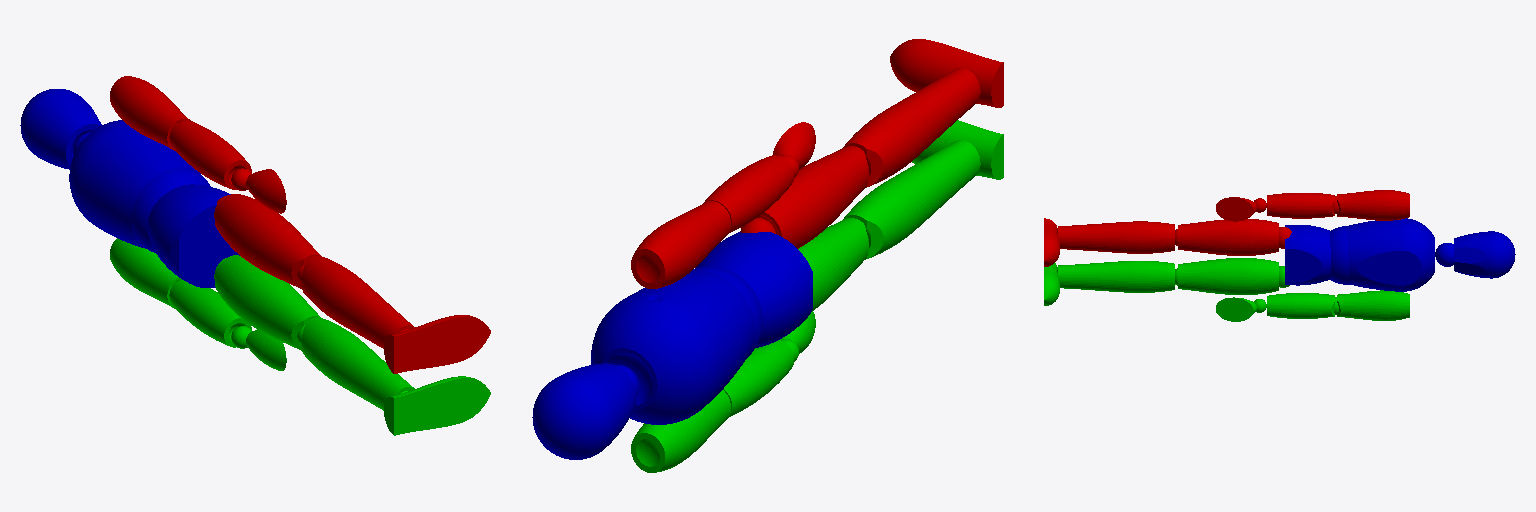
--- Render facts (derived) ---
3 views of the same robot in one strip: view 1: azimuth 30°, elevation 25°; view 2: azimuth 150°, elevation 25°; view 3: azimuth 270°, elevation 25° (orthographic).
Robot: human_36dof_ISB_model — 37 links, 36 joints (36 revolute); root link middle_pelvis; default pose: all joints at 0.
Visible links, largest first — view 1: middle_abdomen, middle_pelvis, right_upperleg, left_upperleg, right_lowerleg, left_lowerleg, middle_head, right_foot, left_foot, right_upperarm, right_lowerarm, left_lowerarm (+3 smaller); view 2: middle_abdomen, middle_head, left_lowerleg, right_lowerleg, middle_pelvis, right_upperleg, right_upperarm, right_foot, left_upperarm, left_upperleg, right_lowerarm, left_lowerarm (+3 smaller); view 3: middle_abdomen, right_upperleg, left_upperleg, right_lowerleg, left_lowerleg, middle_head, middle_pelvis, right_upperarm, left_upperarm, left_lowerarm, right_lowerarm, right_hand (+3 smaller).
Boxes of the visible links, x1=… form: middle_abdomen: x1=69, y1=120, x2=210, y2=252; middle_pelvis: x1=147, y1=184, x2=239, y2=287; right_upperleg: x1=214, y1=194, x2=320, y2=288; left_upperleg: x1=214, y1=255, x2=320, y2=350; right_lowerleg: x1=297, y1=256, x2=414, y2=348; left_lowerleg: x1=297, y1=317, x2=414, y2=410; middle_head: x1=20, y1=89, x2=101, y2=169; right_foot: x1=384, y1=315, x2=490, y2=373; left_foot: x1=384, y1=376, x2=490, y2=435; right_upperarm: x1=110, y1=76, x2=190, y2=150; right_lowerarm: x1=169, y1=120, x2=251, y2=189; left_lowerarm: x1=169, y1=279, x2=251, y2=347; middle_abdomen: x1=591, y1=267, x2=762, y2=424; middle_head: x1=532, y1=363, x2=638, y2=459; left_lowerleg: x1=843, y1=140, x2=980, y2=259; right_lowerleg: x1=843, y1=68, x2=980, y2=187; middle_pelvis: x1=695, y1=232, x2=812, y2=347; right_upperleg: x1=740, y1=146, x2=868, y2=248; right_upperarm: x1=631, y1=201, x2=730, y2=288; right_foot: x1=890, y1=39, x2=1003, y2=107; left_upperarm: x1=631, y1=390, x2=730, y2=472; left_upperleg: x1=798, y1=218, x2=868, y2=310; right_lowerarm: x1=703, y1=155, x2=793, y2=232; left_lowerarm: x1=723, y1=340, x2=793, y2=416; middle_abdomen: x1=1330, y1=218, x2=1434, y2=291; right_upperleg: x1=1178, y1=219, x2=1291, y2=255; left_upperleg: x1=1178, y1=258, x2=1289, y2=294; right_lowerleg: x1=1058, y1=221, x2=1177, y2=253; left_lowerleg: x1=1058, y1=261, x2=1177, y2=292; middle_head: x1=1435, y1=231, x2=1515, y2=278; middle_pelvis: x1=1285, y1=225, x2=1330, y2=285; right_upperarm: x1=1337, y1=190, x2=1409, y2=220; left_upperarm: x1=1337, y1=290, x2=1409, y2=320; left_lowerarm: x1=1267, y1=293, x2=1338, y2=318; right_lowerarm: x1=1267, y1=193, x2=1338, y2=218; right_hand: x1=1216, y1=197, x2=1266, y2=221.
Size in the robot's own frame: 0.3711 by 1.79 by 0.5386 metres.
21 mesh visuals loaded from 14 distinct referenced files (13 binary STL); not drawn: 2 (reference not matched to a file when rendering).

The robot description file, URDF, robot "human_36dof_ISB_model":
<robot name="human_36dof_ISB_model">
    <material name="body_color">
        <color rgba="0.0 0.0 0.8 1.0"/>
    </material>
    <material name="body_color_R">
        <color rgba="0.8 0.0 0.0 1.0"/>
    </material>
     <material name="body_color_L">
        <color rgba="0.0 0.8 0.0 1.0"/>
    </material>
    <link name="middle_pelvis">
        <inertial>
            <mass value="10.65" />
            <origin xyz="0.03 -0.025 -0.001" rpy="0 -0 0" />
            <inertia ixx="0.08977" ixy="-0.0055" ixz="-0.00127" iyy="0.09888" iyz="-0.00056" izz="0.07942" />
        </inertial>
        <visual>
	        <origin xyz="0.0 -0.05 0.0" rpy="0 0 0" />
            <geometry>
		        <mesh filename="package://example-robot-data/robots/human_description/meshes/pelvis_mesh.STL" scale="0.0063 0.0058 0.0058"/>
            </geometry>
            <material name="body_color"/>
        </visual>
    </link>
    <joint name="left_hip_Z" type="revolute">
        <origin xyz="0.023 -0.1 -0.082" rpy="0 -0 0" />
        <axis xyz="0 0 1" />
        <parent link="middle_pelvis" />
        <child link="left_upperleg_virtual" />
        <limit effort="185" velocity="12.0" lower="-1.047196667" upper="3.14159" />
    </joint>
    <link name="left_upperleg_virtual" />
    <joint name="left_hip_X" type="revolute">
        <origin xyz="0 0 0" rpy="0 -0 0" />
        <axis xyz="1 0 0" />
        <parent link="left_upperleg_virtual" />
        <child link="left_upperleg_virtual_2" />
        <limit effort="120" velocity="12.0" lower="-1.047196667" upper="1.570795" />
    </joint>
    <link name="left_upperleg_virtual_2"/>
    <joint name="left_hip_Y" type="revolute">
        <origin xyz="0 0 0" rpy="0 -0 0" />
        <axis xyz="0 1 0" />
        <parent link="left_upperleg_virtual_2" />
        <child link="left_upperleg" />
        <limit effort="60" velocity="12.0" lower="-1.047196667" upper="1.570795" />
    </joint>
    <link name="left_upperleg">
        <inertial>
            <mass value="9.22" />
            <origin xyz="-0.018 -0.188 0.014" rpy="0 -0 0" />
            <inertia ixx="0.1497" ixy="0.00872" ixz="-0.00071" iyy="0.04005" iyz="-0.00872" izz="0.1602" />
        </inertial>
        <visual>
            <origin xyz="0 -0.05 0.0" rpy="0.0 0 0" />
            <geometry>
                <mesh filename="package://example-robot-data/robots/human_description/meshes/upperleg_mesh.STL" scale="0.0062 0.0064 0.0069"/>
            </geometry>
            <material name="body_color_L"/>
        </visual>
    </link>
    <joint name="left_knee_Z" type="revolute">
        <origin xyz="0. -0.439 0." rpy="0 -0 0" />
        <axis xyz="0 0 -1" />
        <parent link="left_upperleg" />
        <child link="left_lowerleg" />
        <limit effort="130" velocity="18.6" lower="0" upper="3.14159" />
    </joint>
    <link name="left_lowerleg">
        <inertial>
            <mass value="3.6" />
            <origin xyz="-0.021 -0.181 0.003" rpy="0 -0 0" />
            <inertia ixx="0.05471" ixy="0.00112" ixz="0.00028" iyy="0.00698" iyz="0.00174" izz="0.05471" />
        </inertial>
        <visual>
            <origin xyz="-0.0 -0.0 0.0" rpy="0.0 0.0 0" />
            <geometry>
                <mesh filename="package://example-robot-data/robots/human_description/meshes/lowerleg_mesh.STL" scale="0.0063 0.0066 0.007"/>
            </geometry>
            <material name="body_color_L"/>
	    </visual>
        <visual>
            <origin xyz="-0.0 0.0 -0.0" rpy="0 -0 0" />
            <geometry>
                <mesh filename="package://example-robot-data/robots/human_description/meshes/knee_mesh.STL" scale="0.0056 0.0056 0.0056"/>
            </geometry>
            <material name="body_color_L"/>
        </visual>
    </link>
    <joint name="left_ankle_Z" type="revolute">
        <origin xyz="0 -0.44 0" rpy="0 -0 0" />
        <axis xyz="0 0 1" />
        <parent link="left_lowerleg" />
        <child link="left_foot_virtual" />
        <limit effort="126" velocity="12.7" lower="-1.570795" upper="0.7853975" />
    </joint>
    <link name="left_foot_virtual" />
    <joint name="left_ankle_X" type="revolute">
        <origin xyz="0 0 0" rpy="0 -0 0" />
        <axis xyz="-1 0 0" />
        <parent link="left_foot_virtual" />
        <child link="left_foot" />
        <limit effort="20" velocity="2.0" lower="-0.523598333" upper="0.785398" />
    </joint>
    <link name="left_foot">
        <inertial>
            <mass value="0.9" />
            <origin xyz="0.068 -0.027 0.005" rpy="0 -0 0" />
            <inertia ixx="0.00081" ixy="0.00048" ixz="-0.00018" iyy="0.00385" iyz="0.0" izz="0.00364" />
        </inertial>
        <visual>
            <origin xyz="-0.0 -0.0 0.00" rpy="0 0 0" />
            <geometry>
		        <mesh filename="package://example-robot-data/robots/human_description/meshes/foot_mesh.STL" scale="0.0067 0.0067 0.0067"/>
                <!--<box size="0.03 0.085239 0.06" />-->
            </geometry>
            <material name="body_color_L"/>
        </visual>
    </link>
    <joint name="middle_lumbar_Z" type="revolute">
        <origin xyz="0 0 0" rpy="0 -0 0" />
        <axis xyz="0 0 -1" />
        <parent link="middle_pelvis" />
        <child link="middle_abdomen_virtual" />
        <limit effort="190" velocity="5.2" lower="-3.14159" upper="0.785398" />
    </joint>
    <link name="middle_abdomen_virtual" />
    <joint name="middle_lumbar_X" type="revolute">
        <origin xyz="0 0 0" rpy="0 -0 0" />
        <axis xyz="1 0 0" />
        <parent link="middle_abdomen_virtual" />
        <child link="middle_abdomen" />
        <limit effort="160" velocity="5.2" lower="-0.785398" upper="0.785398" />
    </joint>
    <link name="middle_abdomen">
        <inertial>
            <mass value="12.25" />
            <origin xyz="-0.008 0.1 0.0" rpy="0 -0 0" />
            <inertia ixx="0.04427" ixy="0.01968" ixz="-0.00024" iyy="0.03796" iyz="-0.00097" izz="0.04761" />
        </inertial>
        <visual>
            <origin xyz="-0.0 0.0 -0.0" rpy="0 -0 0" />
            <geometry>
		        <mesh filename="package://example-robot-data/robots/human_description/meshes/abdomen_mesh.STL" scale="0.0074 0.0074 0.0074"/>
                <!--<box size="0.15 0.161217 0.198658" />-->
            </geometry>
            <material name="body_color"/>
        </visual>
        <visual>
	    <origin xyz="-0.0 -0.1 0.0" rpy="0 -0 0" />
            <geometry>
		        <!--<box size="0.15 0.356643 0.329994" />-->
		        <mesh filename="package://example-robot-data/robots/human_description/meshes/torso_mesh.STL" scale="0.007 0.007 0.007"/>
            </geometry>
            <material name="body_color"/>
        </visual>
    </link>
    <joint name="middle_thoracic_Z" type="revolute">
        <origin xyz="0 0.223 0" rpy="0 -0 0" />
        <axis xyz="0 0 -1" />
        <parent link="middle_abdomen" />
        <child link="middle_thorax_virtual" />
        <limit effort="190" velocity="5.2" lower="-1.0472" upper="0.392699" />
    </joint>
    <link name="middle_thorax_virtual" />
    <joint name="middle_thoracic_X" type="revolute">
        <origin xyz="0 0 0" rpy="0 -0 0" />
        <axis xyz="1 0 0" />
        <parent link="middle_thorax_virtual" />
        <child link="middle_thorax_virtual_2" />
        <limit effort="190" velocity="5.2" lower="-1.0472" upper="1.0472" />
    </joint>
    <link name="middle_thorax_virtual_2" />
    <joint name="middle_thoracic_Y" type="revolute">
        <origin xyz="0 0 0" rpy="0 -0 0" />
        <axis xyz="0 1 0" />
        <parent link="middle_thorax_virtual_2" />
        <child link="middle_thorax" />
        <limit effort="185" velocity="2.0" lower="-1.0472" upper="1.0472" />
    </joint>
    <link name="middle_thorax" >
        <inertial>
            <mass value="11.97" />
            <origin xyz="-0.009 0.127 -0.001" rpy="0 -0 0" />
            <inertia ixx="0.05463" ixy="0.02428" ixz="-0.0003" iyy="0.04683" iyz="-0.0012" izz="0.05875" />
        </inertial>
    </link>
    <joint name="middle_cervical_Z" type="revolute">
        <origin xyz="0 0.25 0" rpy="0 -0 0" />
        <axis xyz="0 0 -1" />
        <parent link="middle_thorax" />
        <child link="middle_head_virtual" />
        <limit effort="100" velocity="8.7" lower="-1.5708" upper="1.5708" />
    </joint>
    <link name="middle_head_virtual" />
    <joint name="middle_cervical_X" type="revolute">
        <origin xyz="0 0 0" rpy="0 -0 0" />
        <axis xyz="1 0 0" />
        <parent link="middle_head_virtual" />
        <child link="middle_head_virtual_2" />
        <limit effort="100" velocity="8.7" lower="-1.5708" upper="1.5708" />
    </joint>
    <link name="middle_head_virtual_2" />
    <joint name="middle_cervical_Y" type="revolute">
        <origin xyz="0 0 0" rpy="0 -0 0" />
        <axis xyz="0 1 0" />
        <parent link="middle_head_virtual_2" />
        <child link="middle_head" />
        <limit effort="100" velocity="8.7" lower="-1.5708" upper="1.5708" />
    </joint>
    <link name="middle_head">
        <inertial>
            <mass value="5.03" />
            <origin xyz="-0.015 0.131 0.0" rpy="0 -0 0" />
            <inertia ixx="0.02688" ixy="-0.00227" ixz="-0.00011" iyy="0.01748" iyz="0.00025" izz="0.03046" />
        </inertial>
        <visual>
	        <origin xyz="-0.0 0.00 -0.00" rpy="0 -0 0" />
            <geometry>
		        <mesh filename="package://example-robot-data/robots/human_description/meshes/head_mesh.STL" scale="0.0056 0.0056 0.0056"/>
            </geometry>
            <material name="body_color"/>
        </visual>
        <visual>
	     <origin xyz="-0.0 0.00 -0.00" rpy="0 -0 0" />
            <geometry>
		        <mesh filename="package://example-robot-data/robots/human_description/meshes/neck_mesh.STL" scale="0.005 0.005 0.005"/>
            </geometry>
            <material name="body_color"/>
        </visual>
    </link>
    <joint name="left_clavicle_joint_X" type="revolute">
        <origin xyz="0 0.176 0" rpy="0 -0 0" />
        <axis xyz="1 0 0" />
        <parent link="middle_thorax" />
        <child link="left_clavicle" />
        <limit effort="100" velocity="14.0" lower="-1.0472" upper="0.349066" />
    </joint>
    <link name="left_clavicle">
        <inertial>
            <mass value="0.15600" />
            <origin xyz="-0.011096 0.00637 0.05417" rpy="0 -0 0" />
            <inertia ixx="0.00024" ixy="-0.00002" ixz="-0.00007" iyy="0.00026" iyz="0.00005" izz="0.00004" />
        </inertial>
    </link>
    <joint name="left_shoulder_Z" type="revolute">
        <origin xyz="0.008 -0.075 -0.21" rpy="0 -0 0" />
        <axis xyz="0 0 1" />
        <parent link="left_clavicle" />
        <child link="left_upperarm_virtual" />
        <limit effort="92" velocity="17.6" lower="-3.14159" upper="3.14159" />
    </joint>
    <link name="left_upperarm_virtual"/>
    <joint name="left_shoulder_X" type="revolute">
        <origin xyz="0 0 0" rpy="0 -0 0" />
        <axis xyz="1 0 0" />
        <parent link="left_upperarm_virtual" />
        <child link="left_upperarm_virtual_2" />
        <limit effort="71" velocity="6.0" lower="-1.0472" upper="3.14159" />
    </joint>
    <link name="left_upperarm_virtual_2" />
    <joint name="left_shoulder_Y" type="revolute">
        <origin xyz="0 0 0" rpy="0 -0 0" />
        <axis xyz="0 1 0" />
        <parent link="left_upperarm_virtual_2" />
        <child link="left_upperarm" />
        <limit effort="52" velocity="6.0" lower="-1.5708" upper="3.14159" />
    </joint>
    <link name="left_upperarm">
        <inertial>
            <mass value="1.8" />
            <origin xyz="0.005 -0.125 -0.007" rpy="0 -0 0" />
            <inertia ixx="0.01314" ixy="0.00049" ixz="0.00034" iyy="0.00268" iyz="0.00005" izz="0.014" />
        </inertial>
        <visual>
	         <origin xyz="-0.0 0.00 -0.00" rpy="0 -0 0" />
            <geometry>
		        <mesh filename="package://example-robot-data/robots/human_description/meshes/shoulder_mesh.STL" scale="0.0039 0.0039 0.0039"/>
            </geometry>
            <material name="body_color_L"/>
        </visual>
        <visual>
            <origin xyz="-0.0 0.05 -0.00" rpy="0 -0 0" />
            <geometry>
                <mesh filename="package://example-robot-data/robots/human_description/meshes/upperarm_mesh.STL" scale="0.0063 0.006 0.0069"/>
            </geometry>
            <material name="body_color_L"/>
        </visual>
    </link>
    <joint name="left_elbow_Z" type="revolute">
        <origin xyz="0 -0.276 0" rpy="0 -0 0" />
        <axis xyz="0 0 1" />
        <parent link="left_upperarm" />
        <child link="left_lowerarm_virtual" />
        <limit effort="77" velocity="19.9" lower="0" upper="2.617991667" />
    </joint>
    <link name="left_lowerarm_virtual"/>
    <joint name="left_elbow_Y" type="revolute">
        <origin xyz="0 0 0" rpy="0 -0 0" />
        <axis xyz="0 1 0" />
        <parent link="left_lowerarm_virtual" />
        <child link="left_lowerarm" />
        <limit effort="15" velocity="6.0" lower="-3.14159" upper="0.349066" />
    </joint>
    <link name="left_lowerarm">
        <inertial>
            <mass value="1.28" />
            <origin xyz="0.003 -0.12 0.004" rpy="0 -0 0" />
            <inertia ixx="0.00825" ixy="0.00009" ixz="0.00004" iyy="0.00127" iyz="-0.00067" izz="0.00767" />
        </inertial>
        <visual>
            <origin xyz="-0.0 0.00 -0.00" rpy="0 -0 0" />
            <geometry>
                <mesh filename="package://example-robot-data/robots/human_description/meshes/lowerarm_mesh.STL" scale="0.0064 0.0064 0.0064"/>
            </geometry>
            <material name="body_color_L"/>
        </visual>
        <visual>
	        <origin xyz="-0.0 0.00 -0.00" rpy="0 -0 0" />
            <geometry>
		        <mesh filename="package://example-robot-data/robots/human_description/meshes/elbow_mesh.STL" scale="0.0055 0.0055 0.0055"/>
            </geometry>
            <material name="body_color_L"/>
        </visual>
    </link>
    <joint name="left_wrist_Z" type="revolute">
        <origin xyz="0 -0.287 0" rpy="0 -0 0" />
        <axis xyz="0 0 1" />
        <parent link="left_lowerarm" />
        <child link="left_hand_virtual" />
        <limit effort="185" velocity="25.0" lower="-1.5708" upper="1.5708" />
    </joint>
    <link name="left_hand_virtual" />
    <joint name="left_wrist_X" type="revolute">
        <origin xyz="0 0 0" rpy="0 -0 0" />
        <axis xyz="-1 0 0" />
        <parent link="left_hand_virtual" />
        <child link="left_hand" />
        <limit effort="100" velocity="6.0" lower="-0.785398" upper="0.785398" />
    </joint>
    <link name="left_hand">
        <inertial>
            <mass value="0.45" />
            <origin xyz="0.015 -0.153 0.014" rpy="0 -0 0" />
            <inertia ixx="0.00558" ixy="0.00073" ixz="0.00034" iyy="0.00216" iyz="-0.0006" izz="0.0047" />
        </inertial>
        <visual>
            <origin xyz="-0.0 0.00 -0.00" rpy="0 -0 0" />
            <geometry>
		        <mesh filename="package://example-robot-data/robots/human_description/meshes/hand_mesh.STL" scale="0.0061 0.0061 0.0061"/>
                <!--<box size="0.03 0.085239 0.06" />-->
            </geometry>
            <material name="body_color_L"/>
        </visual>
    </link>
    <joint name="right_clavicle_joint_X" type="revolute">
        <origin xyz="0 0.176 0" rpy="0 -0 0" />
        <axis xyz="-1 0 0" />
        <parent link="middle_thorax" />
        <child link="right_clavicle" />
        <limit effort="100" velocity="14.0" lower="-0.349066" upper="1.0472" />
    </joint>
    <link name="right_clavicle">
        <inertial>
            <mass value="0.15600" />
            <origin xyz="-0.011096 0.00637 0.05417" rpy="0 -0 0" />
            <inertia ixx="0.00024" ixy="-0.00002" ixz="-0.00007" iyy="0.00026" iyz="0.00005" izz="0.00004" />
        </inertial>
    </link>
    <joint name="right_shoulder_Z" type="revolute">
        <origin xyz="0.008 -0.075 0.21" rpy="0 -0 0" />
        <axis xyz="0 0 1" />
        <parent link="right_clavicle" />
        <child link="right_upperarm_virtual" />
        <limit effort="92" velocity="17.6" lower="-3.14159" upper="3.14159" />
    </joint>
    <link name="right_upperarm_virtual"/>
    <joint name="right_shoulder_X" type="revolute">
        <origin xyz="0 0 0" rpy="0 -0 0" />
        <axis xyz="-1 0 0" />
        <parent link="right_upperarm_virtual" />
        <child link="right_upperarm_virtual_2" />
        <limit effort="71" velocity="6.0" lower="-1.0472" upper="3.14159" />
    </joint>
    <link name="right_upperarm_virtual_2" />
    <joint name="right_shoulder_Y" type="revolute">
        <origin xyz="0 0 0" rpy="0 -0 0" />
        <axis xyz="0 -1 0" />
        <parent link="right_upperarm_virtual_2" />
        <child link="right_upperarm" />
        <limit effort="52" velocity="6.0" lower="-1.5708" upper="3.14159" />
    </joint>
    <link name="right_upperarm">
        <inertial>
            <mass value="1.8" />
            <origin xyz="0.005 -0.125 -0.007" rpy="0 -0 0" />
            <inertia ixx="0.01314" ixy="0.00049" ixz="0.00034" iyy="0.00268" iyz="0.00005" izz="0.014" />
        </inertial>
        <visual>
	        <origin xyz="-0.0 0.0 -0.0" rpy="0 -0 0" />
            <geometry>
		        <mesh filename="package://example-robot-data/robots/human_description/meshes/shoulder_mesh.STL" scale="0.0039 0.0039 0.0039"/>
            </geometry>
            <material name="body_color_R"/>
        </visual>
        <visual>
            <origin xyz="-0.0 0.05 -0.00" rpy="0 -0 0" />
            <geometry>
                <mesh filename="package://example-robot-data/robots/human_description/meshes/upperarm_mesh.STL" scale="0.0063 0.006 0.0069"/>
            </geometry>
            <material name="body_color_R"/>
        </visual>
    </link>
    <joint name="right_elbow_Z" type="revolute">
        <origin xyz="0 -0.276 0" rpy="0 -0 0" />
        <axis xyz="0 0 1" />
        <parent link="right_upperarm" />
        <child link="right_lowerarm_virtual" />
        <limit effort="77" velocity="19.9" lower="0" upper="2.617991667" />
    </joint>
    <link name="right_lowerarm_virtual"/>
    <joint name="right_elbow_Y" type="revolute">
        <origin xyz="0 0 0" rpy="0 -0 0" />
        <axis xyz="0 1 0" />
        <parent link="right_lowerarm_virtual" />
        <child link="right_lowerarm" />
        <limit effort="15" velocity="6.0" lower="-0.349066" upper="3.14159" />
    </joint>
    <link name="right_lowerarm">
        <inertial>
            <mass value="1.28" />
            <origin xyz="0.003 -0.12 0.004" rpy="0 -0 0" />
            <inertia ixx="0.00825" ixy="0.00009" ixz="0.00004" iyy="0.00127" iyz="-0.00067" izz="0.00767" />
        </inertial>
        <visual>
            <origin xyz="-0.0 0.00 -0.00" rpy="0 -0 0" />
            <geometry>
                <mesh filename="package://example-robot-data/robots/human_description/meshes/lowerarm_mesh.STL" scale="0.0064 0.0064 0.0064"/>
            </geometry>
            <material name="body_color_R"/>
        </visual>
        <visual>
	        <origin xyz="-0.0 0.00 -0.00" rpy="0 -0 0" />
            <geometry>
		        <mesh filename="package://example-robot-data/robots/human_description/meshes/elbow_mesh.STL" scale="0.0055 0.0055 0.0055"/>
            </geometry>
            <material name="body_color_R"/>
        </visual>
    </link>
    <joint name="right_wrist_Z" type="revolute">
        <origin xyz="0 -0.287 0" rpy="0 -0 0" />
        <axis xyz="0 0 1" />
        <parent link="right_lowerarm" />
        <child link="right_hand_virtual" />
        <limit effort="100" velocity="25.0" lower="-1.5708" upper="1.5708" />
    </joint>
    <link name="right_hand_virtual" />
    <joint name="right_wrist_X" type="revolute">
        <origin xyz="0 0 0" rpy="0 -0 0" />
        <axis xyz="1 0 0" />
        <parent link="right_hand_virtual" />
        <child link="right_hand" />
        <limit effort="100" velocity="6.0" lower="-0.785398" upper="0.785398" />
    </joint>
    <link name="right_hand">
        <inertial>
            <mass value="0.45" />
            <origin xyz="0.015 -0.153 0.014" rpy="0 -0 0" />
            <inertia ixx="0.00558" ixy="0.00073" ixz="0.00034" iyy="0.00216" iyz="-0.0006" izz="0.0047" />
        </inertial>
        <visual>
            <origin xyz="-0.0 0.00 -0.00" rpy="0 -0 0" />
            <geometry>
		        <mesh filename="package://example-robot-data/robots/human_description/meshes/hand_mesh.STL" scale="0.0061 0.0061 0.0061"/>
                <!--<box size="0.03 0.085239 0.06" />-->
            </geometry>
            <material name="body_color_R"/>
        </visual>
    </link>
    <joint name="right_hip_Z" type="revolute">
        <origin xyz="0.023 -0.1 0.082" rpy="0 -0 0" />
        <axis xyz="0 0 1" />
        <parent link="middle_pelvis" />
        <child link="right_upperleg_virtual" />
        <limit effort="185" velocity="12.0" lower="-1.047196667" upper="3.14159" />
    </joint>
    <link name="right_upperleg_virtual" />
    <joint name="right_hip_X" type="revolute">
        <origin xyz="0 0 0" rpy="0 -0 0" />
        <axis xyz="1 0 0" />
        <parent link="right_upperleg_virtual" />
        <child link="right_upperleg_virtual_2" />
        <limit effort="120" velocity="6.0" lower="-1.570795" upper="1.047196667" />
    </joint>
    <link name="right_upperleg_virtual_2"/>
    <joint name="right_hip_Y" type="revolute">
        <origin xyz="0 0 0" rpy="0 -0 0" />
        <axis xyz="0 1 0" />
        <parent link="right_upperleg_virtual_2" />
        <child link="right_upperleg" />
        <limit effort="60" velocity="6.0" lower="-1.570795" upper="1.047196667" />
    </joint>
    <link name="right_upperleg">
        <inertial>
            <mass value="9.22" />
            <origin xyz="-0.018 -0.188 0.014" rpy="0 -0 0" />
            <inertia ixx="0.1497" ixy="0.00872" ixz="-0.00071" iyy="0.04005" iyz="-0.00872" izz="0.1602" />
        </inertial>
        <visual>
            <origin xyz="-0.0 -0.05 -0.00" rpy="0 -0 0" />
            <geometry>
                <mesh filename="package://example-robot-data/robots/human_description/meshes/upperleg_mesh.STL" scale="0.0062 0.0064 0.0069"/>
            </geometry>
            <material name="body_color_R"/>
        </visual>
    </link>
    <joint name="right_knee_Z" type="revolute">
        <origin xyz="0 -0.439 0" rpy="0 -0 0" />
        <axis xyz="0 0 -1" />
        <parent link="right_upperleg" />
        <child link="right_lowerleg" />
        <limit effort="130" velocity="18.6" lower="0" upper="3.14159" />
    </joint>
    <link name="right_lowerleg">
        <inertial>
            <mass value="3.6" />
            <origin xyz="-0.021 -0.181 0.003" rpy="0 -0 0" />
            <inertia ixx="0.05471" ixy="0.00112" ixz="0.00028" iyy="0.00698" iyz="0.00174" izz="0.05471" />
        </inertial>
        <visual>
            <origin xyz="-0.0 0.00 -0.00" rpy="0 -0 0" />
            <geometry>
                <mesh filename="package://example-robot-data/robots/human_description/meshes/lowerleg_mesh.STL" scale="0.0063 0.0066 0.007"/>
            </geometry>
            <material name="body_color_R"/>
        </visual>
        <visual>
            <origin xyz="-0.0 0.0 -0.0" rpy="0 -0 0" />
            <geometry>
                <mesh filename="package://example-robot-data/robots/human_description/meshes/knee_mesh.STL" scale="0.0056 0.0056 0.0056"/>
            </geometry>
            <material name="body_color_R"/>
        </visual>
    </link>
    <joint name="right_ankle_Z" type="revolute">
        <origin xyz="0 -0.44 0" rpy="0 -0 0" />
        <axis xyz="0 0 1" />
        <parent link="right_lowerleg" />
        <child link="right_foot_virtual" />
        <limit effort="126" velocity="12.7" lower="-1.570795" upper="0.7853975" />
    </joint>
    <link name="right_foot_virtual" />
    <joint name="right_ankle_X" type="revolute">
        <origin xyz="0 0 0" rpy="0 -0 0" />
        <axis xyz="1 0 0" />
        <parent link="right_foot_virtual" />
        <child link="right_foot" />
        <limit effort="20" velocity="6.0" lower="-0.523598333" upper="0.785398" />
    </joint>
    <link name="right_foot">
        <inertial>
            <mass value="0.9" />
            <origin xyz="0.068 -0.027 0.005" rpy="0 -0 0" />
            <inertia ixx="0.00081" ixy="0.00048" ixz="-0.00018" iyy="0.00385" iyz="0.0" izz="0.00364" />
        </inertial>
        <visual>
            <origin xyz="-0.00 -0.00 0.00" rpy="0 0 0" />
            <geometry>
		        <mesh filename="package://example-robot-data/robots/human_description/meshes/foot_mesh.STL" scale="0.0067 0.0067 0.0067"/>
                <!--<box size="0.03 0.085239 0.06" />-->
            </geometry>
            <material name="body_color_R"/>
        </visual>
    </link>
</robot>
